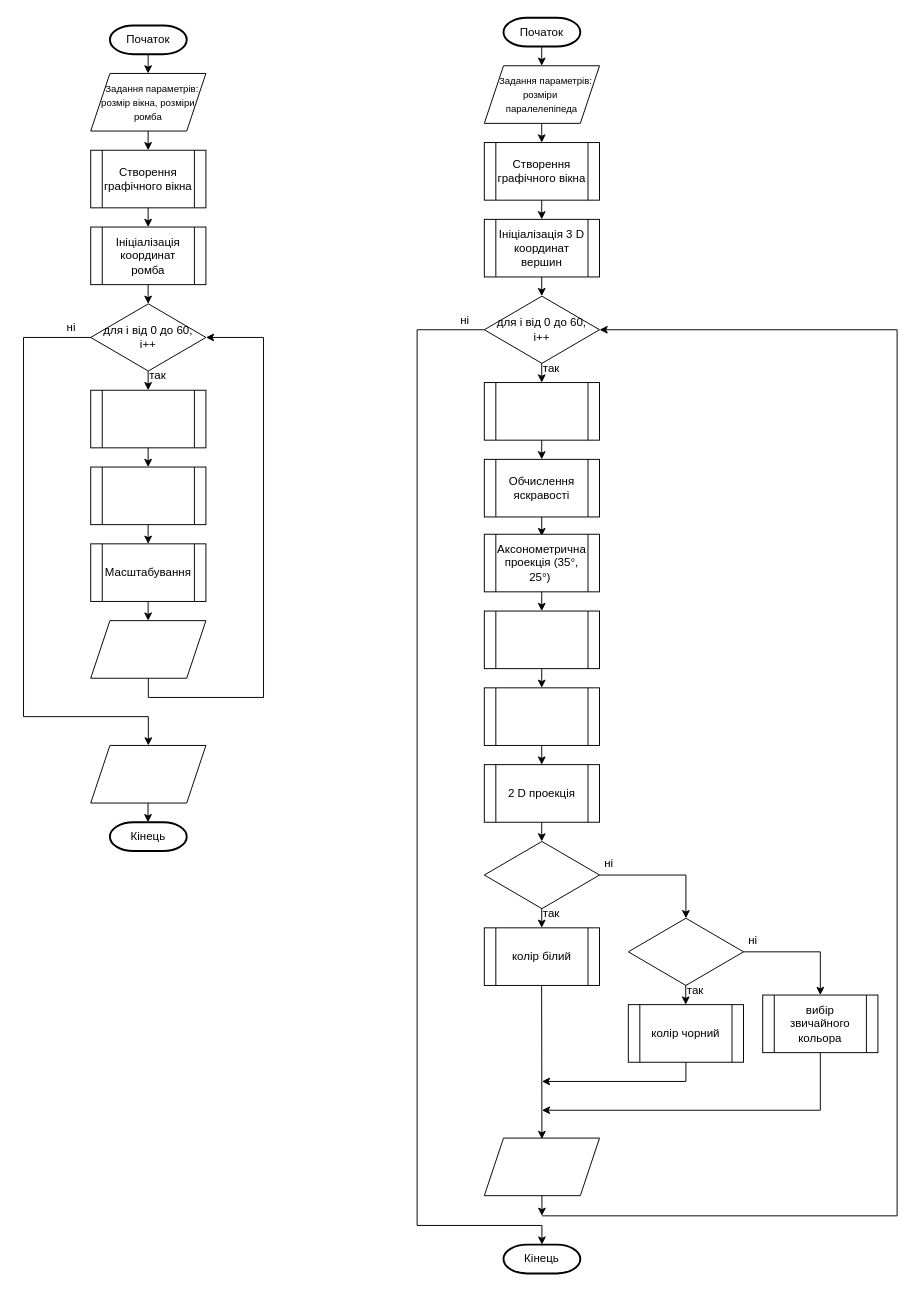
Image size: 922x1290. Some labels were removed from this diagram. Here are the shapes that lost their labels. From the top down, the box of each, then its label:
(90, 389, 206, 448): Обертання ромба на 6°
(483, 382, 600, 440): Очищення попередніх об'єктів
(90, 466, 206, 525): Переміщення на (4, 2)
(90, 620, 206, 678): Відображення ромба
(483, 610, 600, 669): Обертання навколо Y
(483, 687, 600, 745): Переміщення в центр
(90, 744, 206, 803): Відображення фінального ромба
(483, 840, 600, 909): яскравість >0.9
(627, 917, 744, 985): яскравість < 0.1
(483, 1137, 600, 1196): Відображення граней та ребер з обраними кольором
